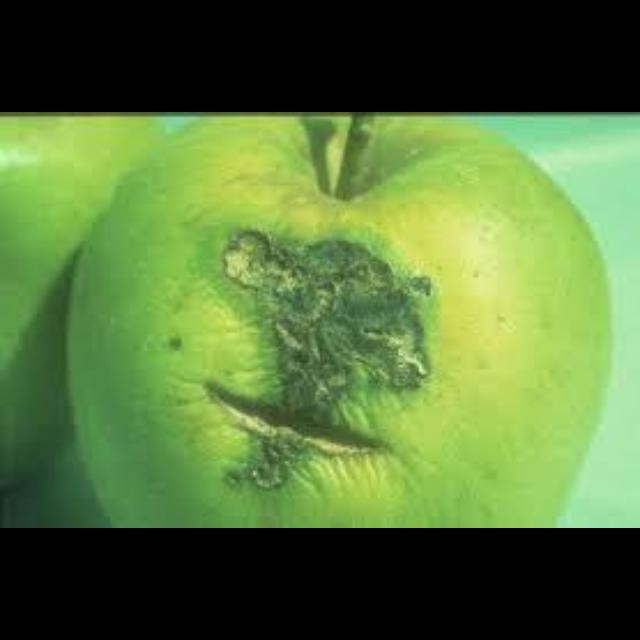apple: (67, 117, 608, 526), (2, 117, 161, 487)
rotten: (223, 229, 426, 425), (248, 441, 308, 492)
scratch: (204, 383, 386, 457)
